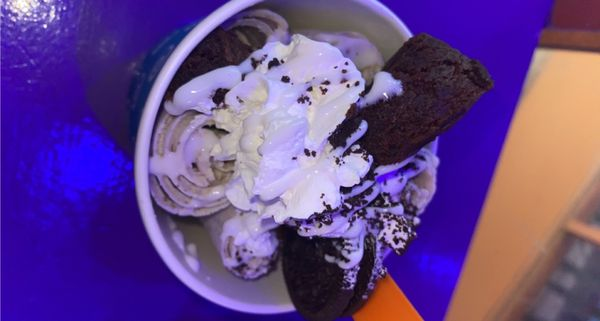soup: (281, 232, 379, 318)
